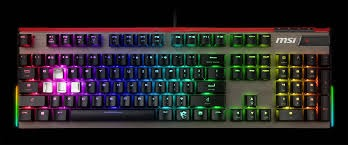keyboard: (8, 24, 337, 136)
